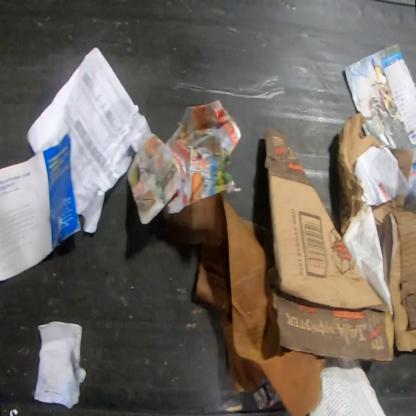cardboard: (172, 194, 328, 415), (264, 127, 396, 362), (335, 112, 381, 237), (382, 210, 415, 352), (371, 196, 407, 249), (387, 147, 414, 183)
